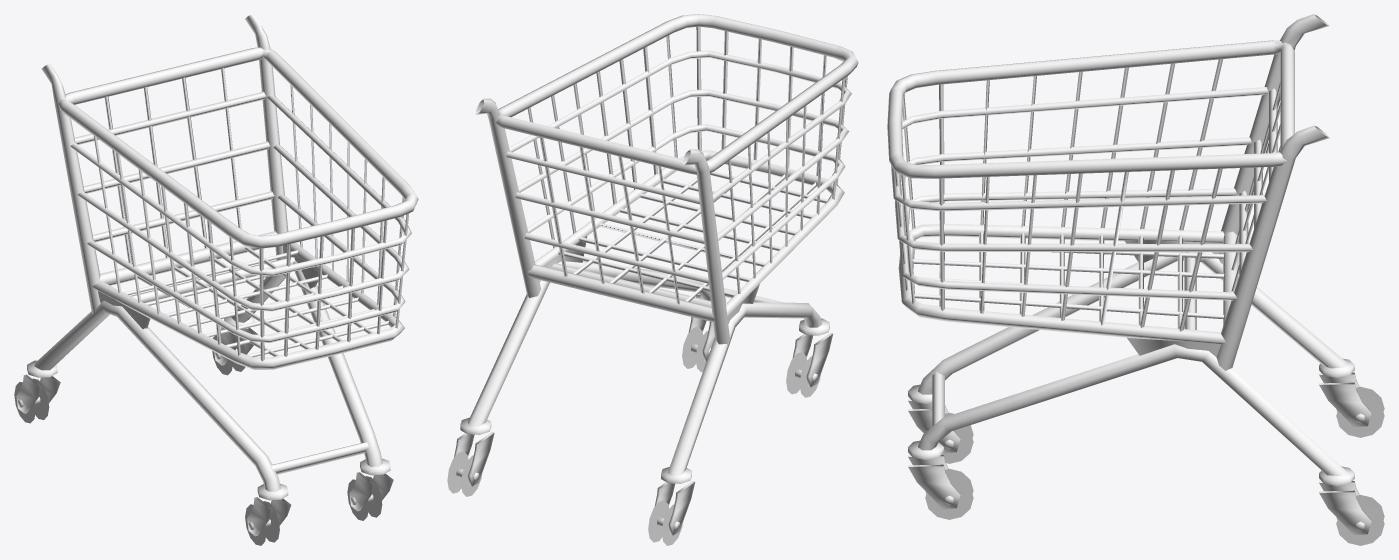
File: shoppingCart_0.obj
3 views of the same model, side by side, from view 1: azimuth 30°, elevation 25°; view 2: azimuth 150°, elevation 25°; view 3: azimuth 270°, elevation 25° (orthographic). The views are drawn at different scales.
Visible parts, largest first — view 1: Einkaufswagen.001_BezierCurve.002; view 2: Einkaufswagen.001_BezierCurve.002; view 3: Einkaufswagen.001_BezierCurve.002.
Part boxes in pixels (x1,y1,x2,y2): Einkaufswagen.001_BezierCurve.002: (14,14,418,545); Einkaufswagen.001_BezierCurve.002: (447,14,858,545); Einkaufswagen.001_BezierCurve.002: (887,14,1384,545).
Size of the model in its own units: 1.56 by 2.47 by 2.66.
1 material, 1 textured.
